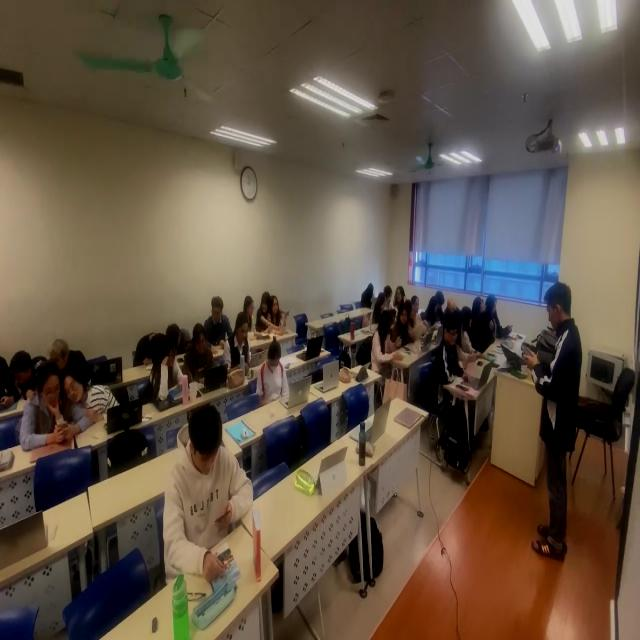raise_head: (471, 298, 491, 355), (407, 298, 429, 345), (269, 297, 289, 332)
stand: (523, 278, 585, 562), (422, 308, 475, 473)
using_computer: (186, 326, 218, 383), (229, 315, 254, 376)
using_phone: (161, 400, 258, 588), (19, 363, 75, 454), (371, 310, 407, 395), (257, 336, 292, 411), (143, 335, 181, 404), (448, 309, 483, 373), (1, 348, 21, 416), (485, 296, 511, 341), (166, 325, 193, 368), (134, 333, 164, 368), (235, 297, 256, 342), (423, 292, 446, 327), (369, 294, 389, 330), (381, 288, 395, 315), (394, 287, 407, 314), (444, 298, 461, 318), (362, 284, 375, 310)
